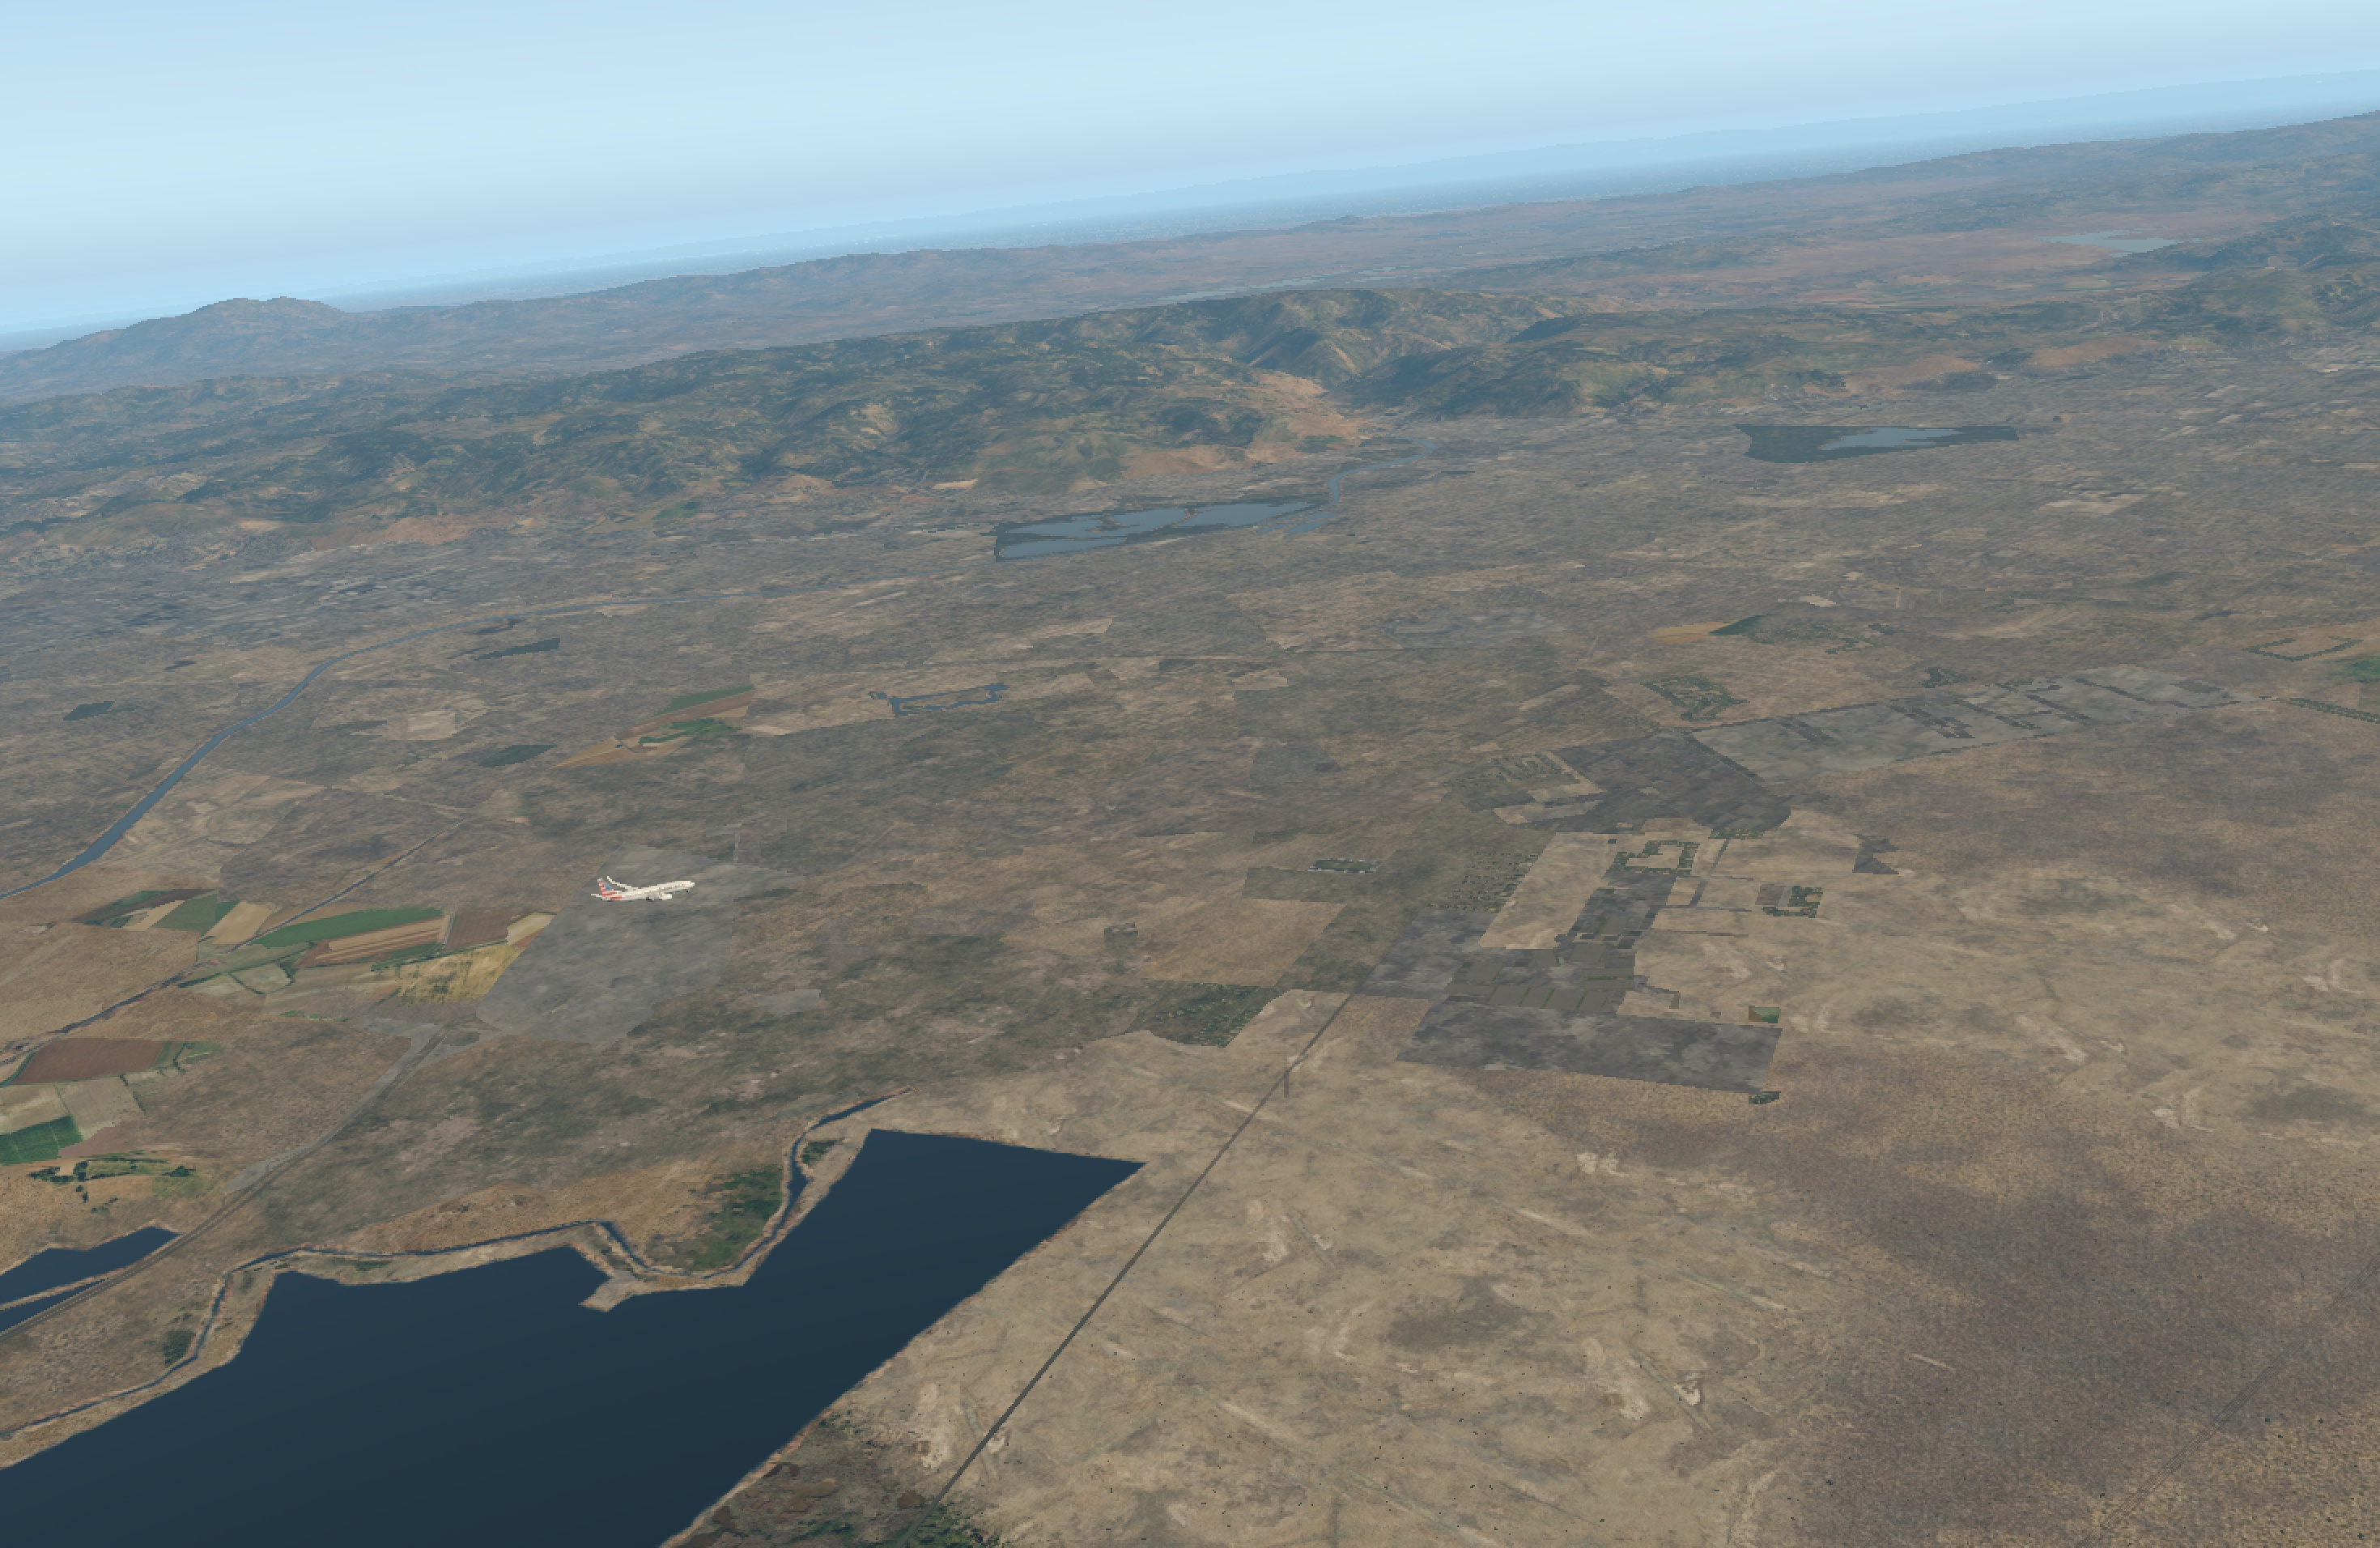aircraft: (598, 873, 704, 913)
